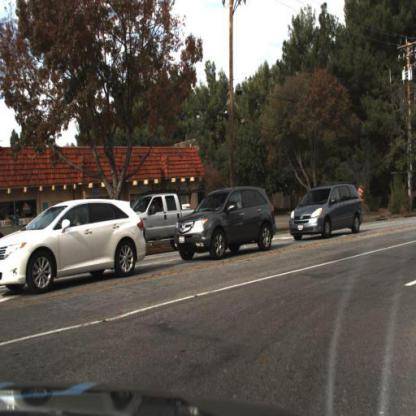car: (1, 199, 148, 295), (167, 180, 284, 274), (174, 185, 278, 264), (285, 162, 372, 252), (135, 190, 195, 253), (142, 184, 183, 260)
